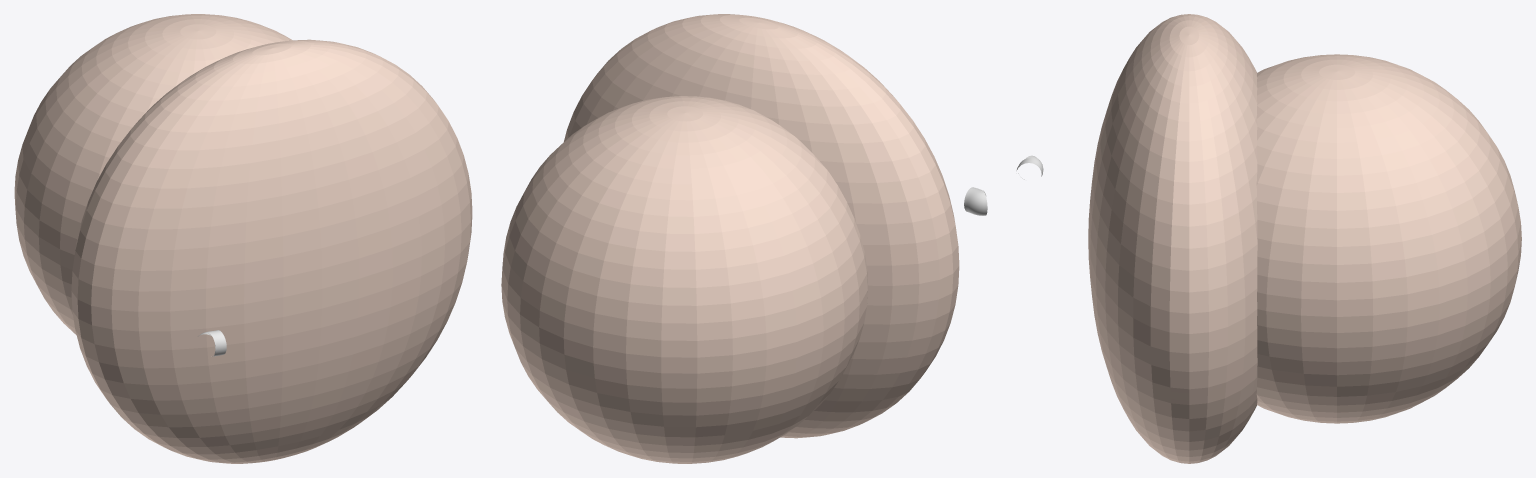
Rendered from fetus_week_16.glb.
3 views of the same model, side by side, from view 1: azimuth 30°, elevation 25°; view 2: azimuth 150°, elevation 25°; view 3: azimuth 270°, elevation 25° (orthographic).
Parts seen in each view (by area): view 1: fetal_body_w16, fetal_head_w16; view 2: fetal_head_w16, fetal_body_w16, BézierCurve; view 3: fetal_head_w16, fetal_body_w16.
Part boxes in pixels (box(x1,y1,x2,y2)): fetal_body_w16: box(71, 39, 472, 463); fetal_head_w16: box(14, 14, 292, 334); fetal_head_w16: box(501, 96, 868, 463); fetal_body_w16: box(564, 14, 959, 438); BézierCurve: box(964, 187, 987, 215); fetal_head_w16: box(1256, 54, 1521, 423); fetal_body_w16: box(1088, 14, 1257, 463).
Size of the model in its own units: 0.2808 by 0.2808 by 0.3154.
